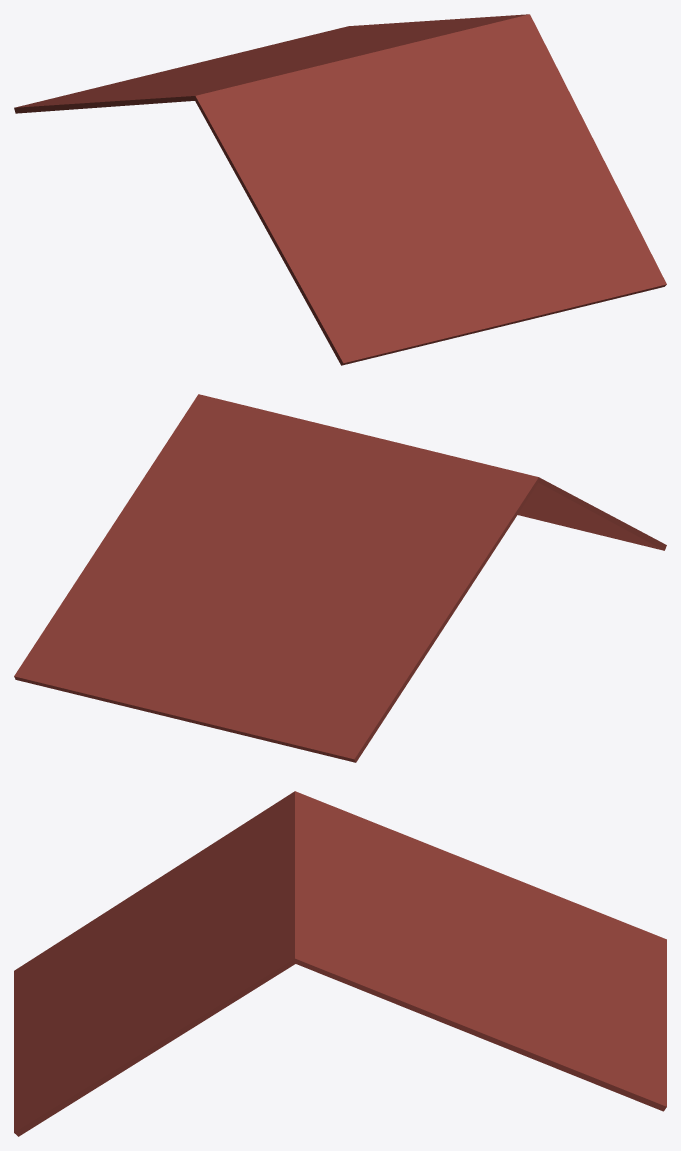
Rendered from RoofRail.fbx.
3 views of the same model, one above another, from view 1: azimuth 30°, elevation 25°; view 2: azimuth 150°, elevation 25°; view 3: azimuth 270°, elevation 25° (orthographic). The views are drawn at different scales.
Parts seen in each view (by area): view 1: Rail_2ndHouse.001; view 2: Rail_2ndHouse.001; view 3: Rail_2ndHouse.001.
Part boxes in pixels (box(x1,y1,x2,y2)): Rail_2ndHouse.001: box(14, 14, 666, 365); Rail_2ndHouse.001: box(14, 394, 666, 762); Rail_2ndHouse.001: box(14, 791, 666, 1136).
Size of the model in its own units: 202 by 100 by 333.
